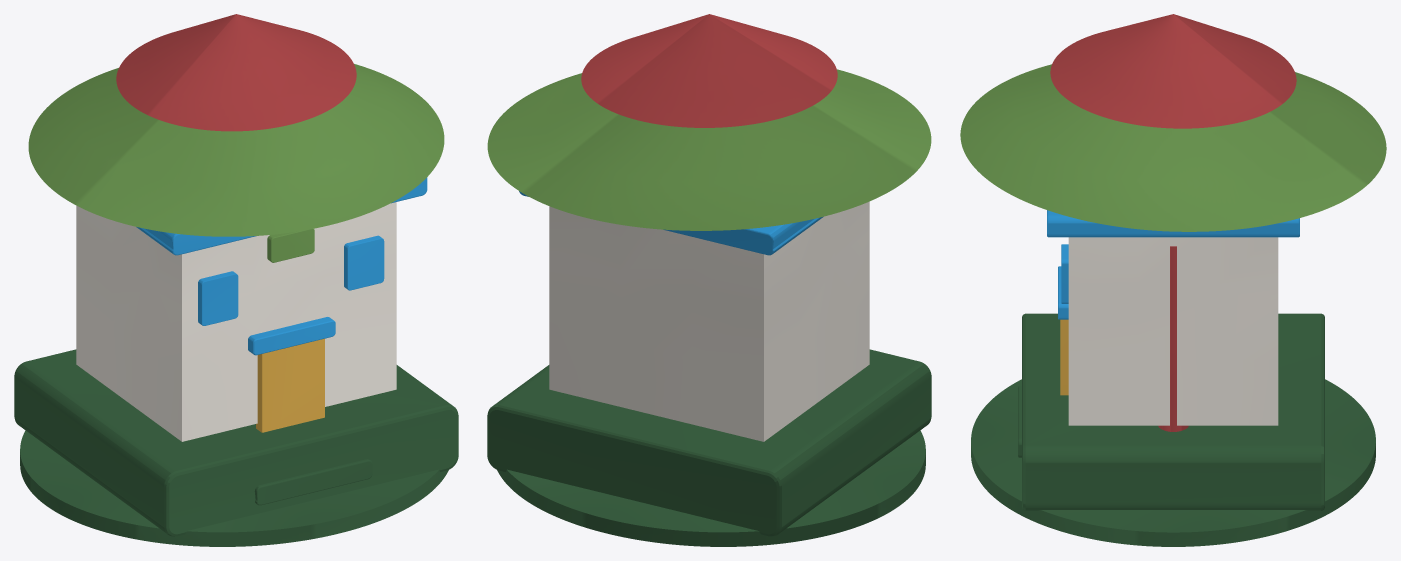
File: 0799_中国建筑图鉴_北京四合院.glb
3 renders of one model, left to right at view 1: azimuth 30°, elevation 25°; view 2: azimuth 150°, elevation 25°; view 3: azimuth 270°, elevation 25°, orthographic.
Visible parts, largest first — view 1: card_0799; view 2: card_0799; view 3: card_0799.
Boxes of the visible parts, x1,y1,x2,y2 form: card_0799: (14,14,458,546); card_0799: (487,14,931,546); card_0799: (960,14,1386,546).
Bounding box in the file's own units: 0.8972 × 1 × 0.8761.
